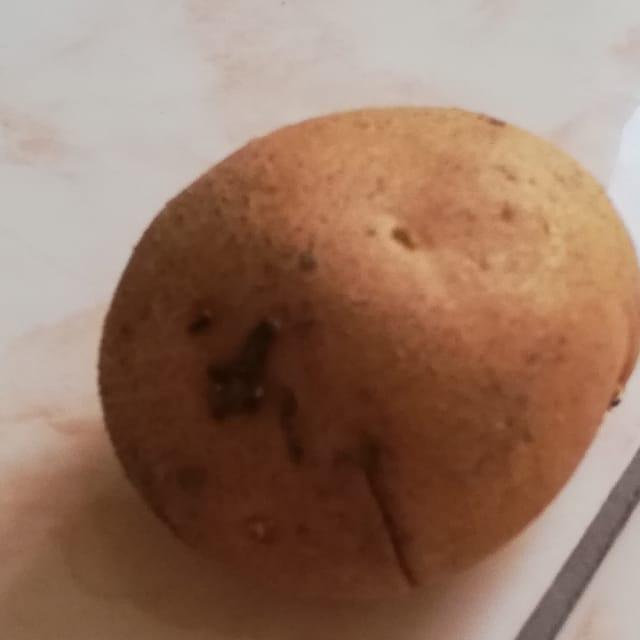potato: (78, 65, 640, 612)
